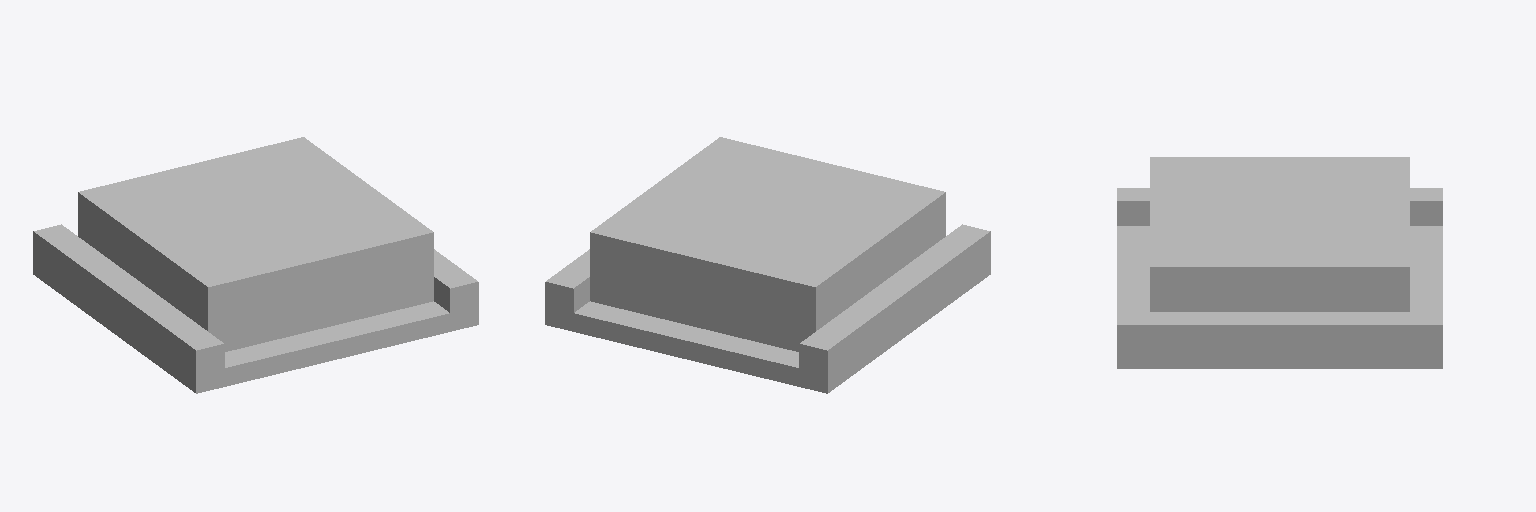
Rendered from Tunnel_wide_01.obj.
The picture shows the model from 3 angles: view 1: azimuth 30°, elevation 25°; view 2: azimuth 150°, elevation 25°; view 3: azimuth 270°, elevation 25°; orthographic projection.
Parts seen in each view (by area): view 1: Mesh1 Tunnel_wide Model; view 2: Mesh1 Tunnel_wide Model; view 3: Mesh1 Tunnel_wide Model.
Boxes of the visible parts, x1,y1,x2,y2 form: Mesh1 Tunnel_wide Model: [33, 137, 478, 393]; Mesh1 Tunnel_wide Model: [545, 137, 990, 393]; Mesh1 Tunnel_wide Model: [1117, 157, 1442, 368].
Bounding box in the file's own units: 3 × 0.89 × 3.